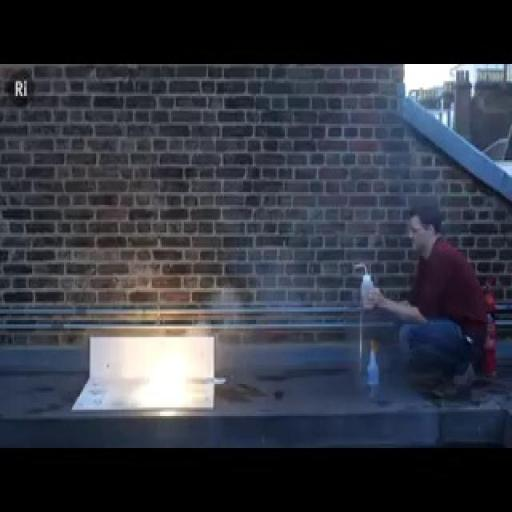smoke: (122, 321, 202, 409)
